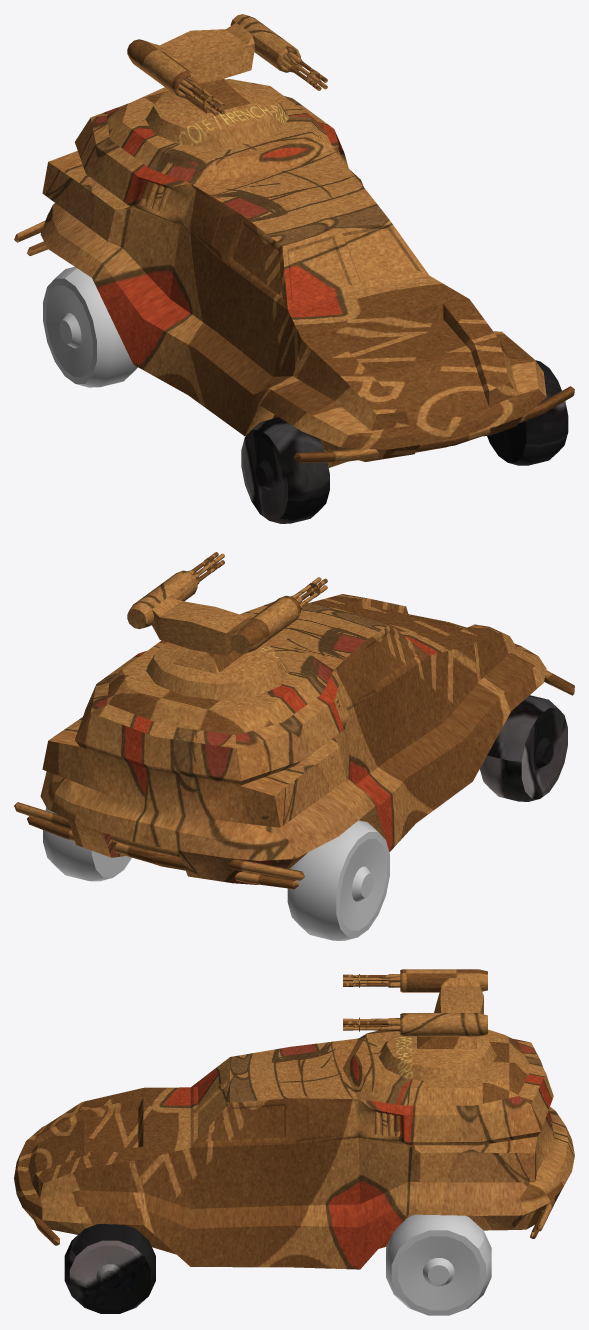
The model's file is armoredrecon.fbx.
3 renders of one model, top to bottom at view 1: azimuth 30°, elevation 25°; view 2: azimuth 150°, elevation 25°; view 3: azimuth 270°, elevation 25°, orthographic. The views are drawn at different scales.
Visible parts, largest first — view 1: blank1, blank0, blank; view 2: blank1, blank, blank0; view 3: blank1, blank, blank0.
Part boxes in pixels (x1=…): blank1: x1=14, y1=14, x2=574, y2=467; blank0: x1=241, y1=360, x2=568, y2=523; blank: x1=43, y1=266, x2=137, y2=387; blank1: x1=14, y1=552, x2=574, y2=889; blank: x1=43, y1=807, x2=389, y2=940; blank0: x1=480, y1=695, x2=567, y2=801; blank1: x1=14, y1=969, x2=574, y2=1269; blank: x1=386, y1=1214, x2=491, y2=1315; blank0: x1=64, y1=1224, x2=155, y2=1313.
Bounding box in the file's own units: 2.93 × 2.83 × 5.41.
